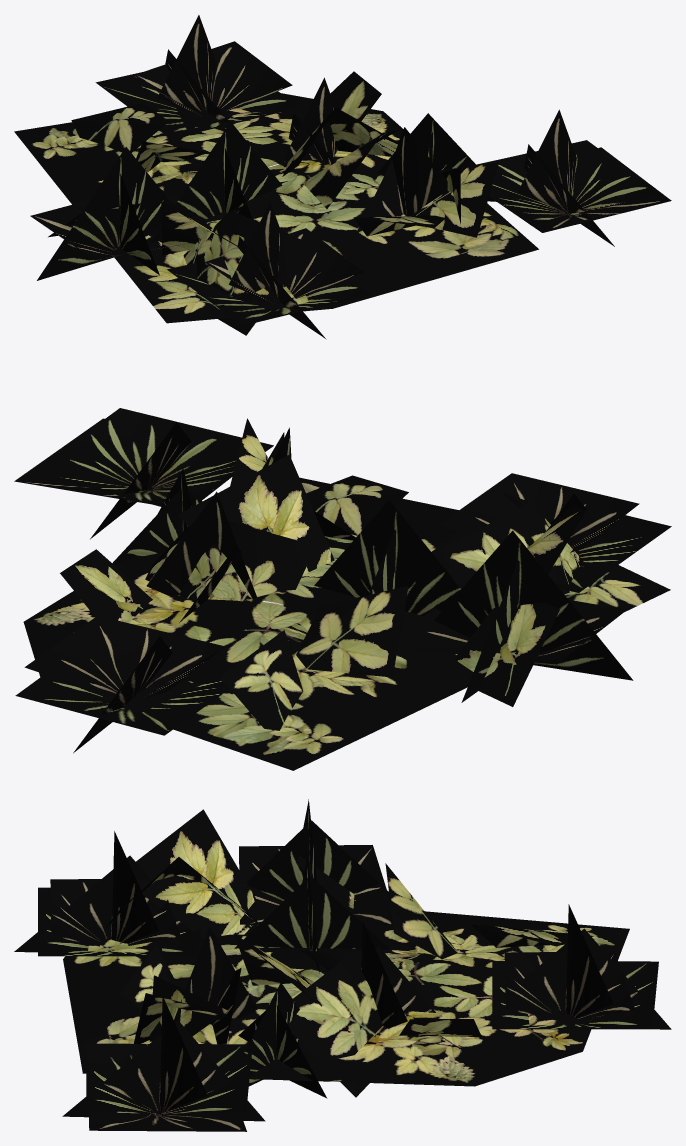
Rendered from SM_Plant_Forest_01.fbx.
3 renders of one model, top to bottom at view 1: azimuth 30°, elevation 25°; view 2: azimuth 150°, elevation 25°; view 3: azimuth 270°, elevation 25°, orthographic. The views are drawn at different scales.
Visible parts, largest first — view 1: SM_Plant_Forest_01; view 2: SM_Plant_Forest_01; view 3: SM_Plant_Forest_01.
Boxes of the visible parts, box(x1,y1,x2,y2) form: SM_Plant_Forest_01: box(14, 15, 671, 339); SM_Plant_Forest_01: box(14, 408, 671, 770); SM_Plant_Forest_01: box(14, 799, 671, 1131).
Bounding box in the file's own units: 107 × 103 × 23.19.
1 material, 1 textured.
